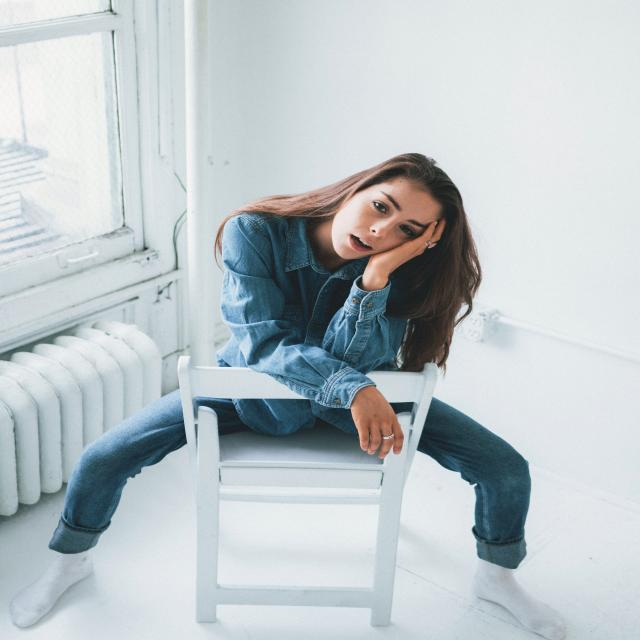adult: (6, 150, 570, 640)
